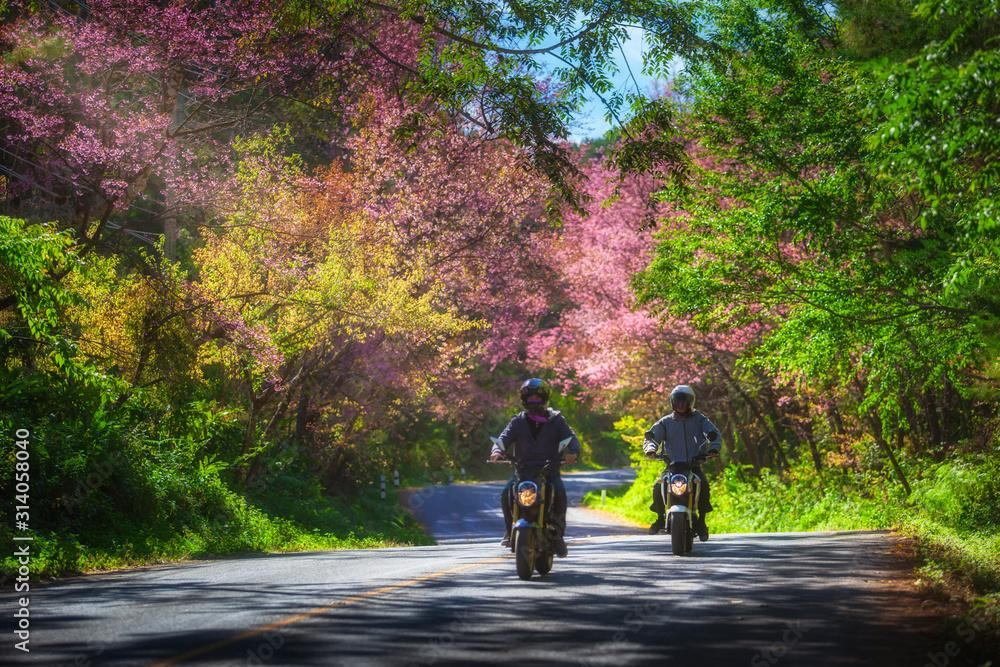helmet: (519, 378, 550, 413), (670, 384, 696, 418)
